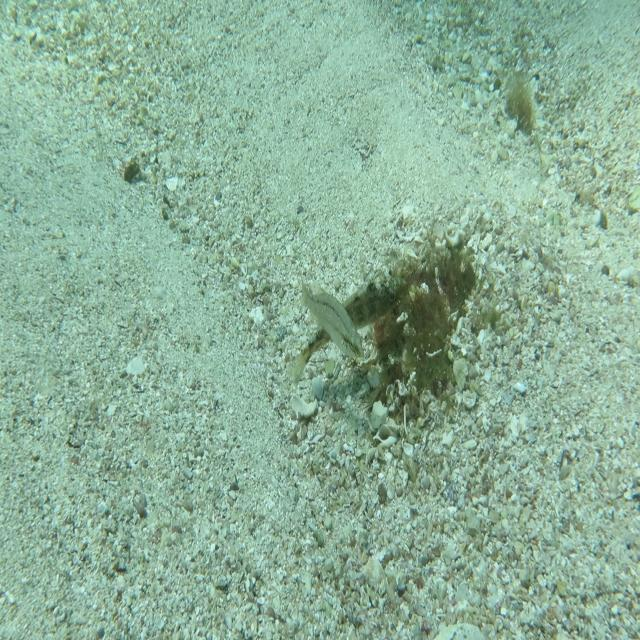ROLL: (282, 268, 410, 395)
female: (296, 272, 366, 364)
nest: (371, 233, 482, 422)
